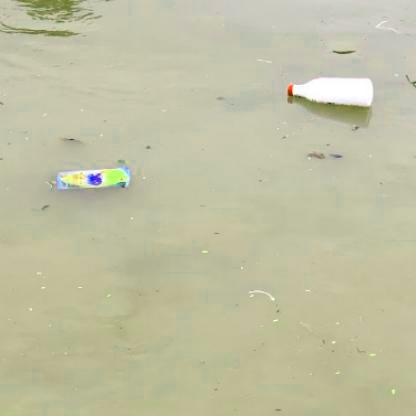Plastic: (286, 74, 376, 111)
Trash: (51, 164, 132, 197)
